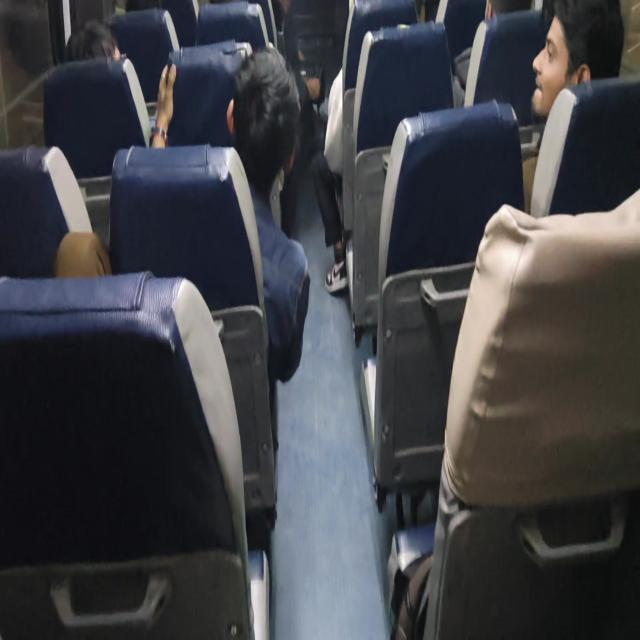person: (220, 55, 301, 170), (526, 13, 608, 117), (66, 22, 126, 92)
